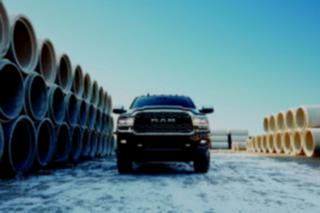ram: (148, 116, 179, 127)
